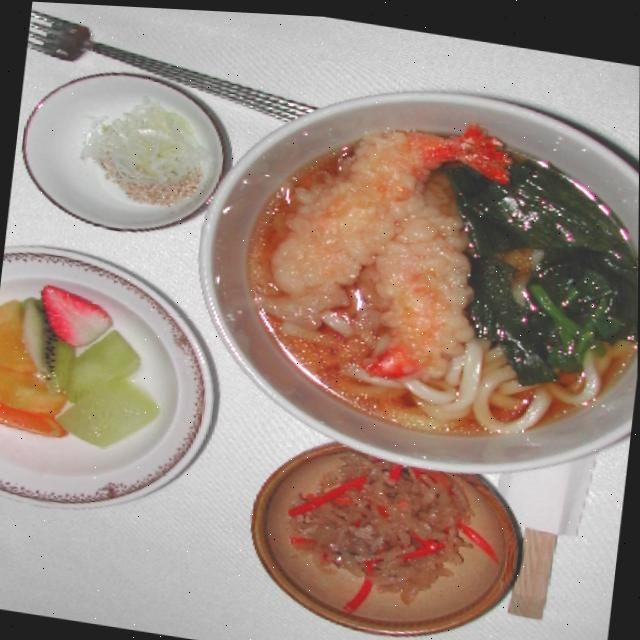面条主食: (226, 80, 640, 460)
